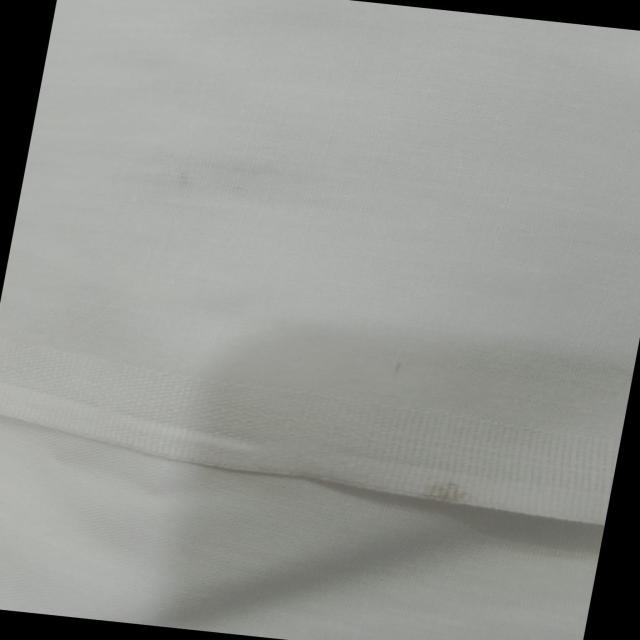stain: (394, 462, 500, 526)
